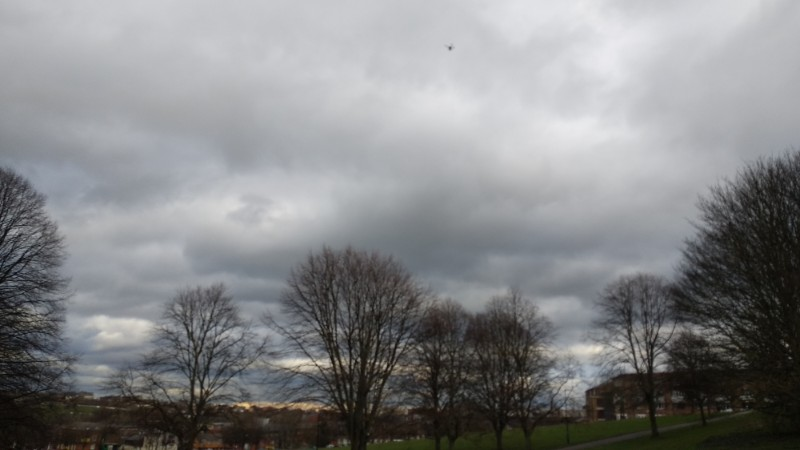drone: (445, 44, 455, 53)
